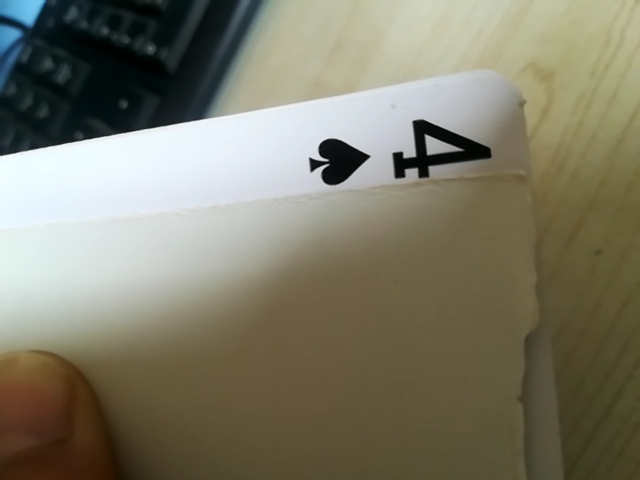ht 4: (283, 98, 510, 211)
